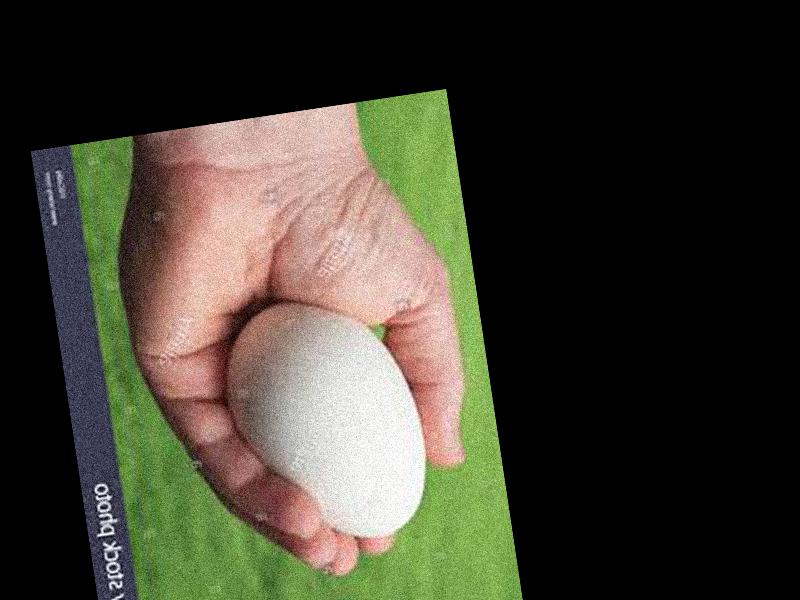Eggs: (213, 281, 438, 554)
